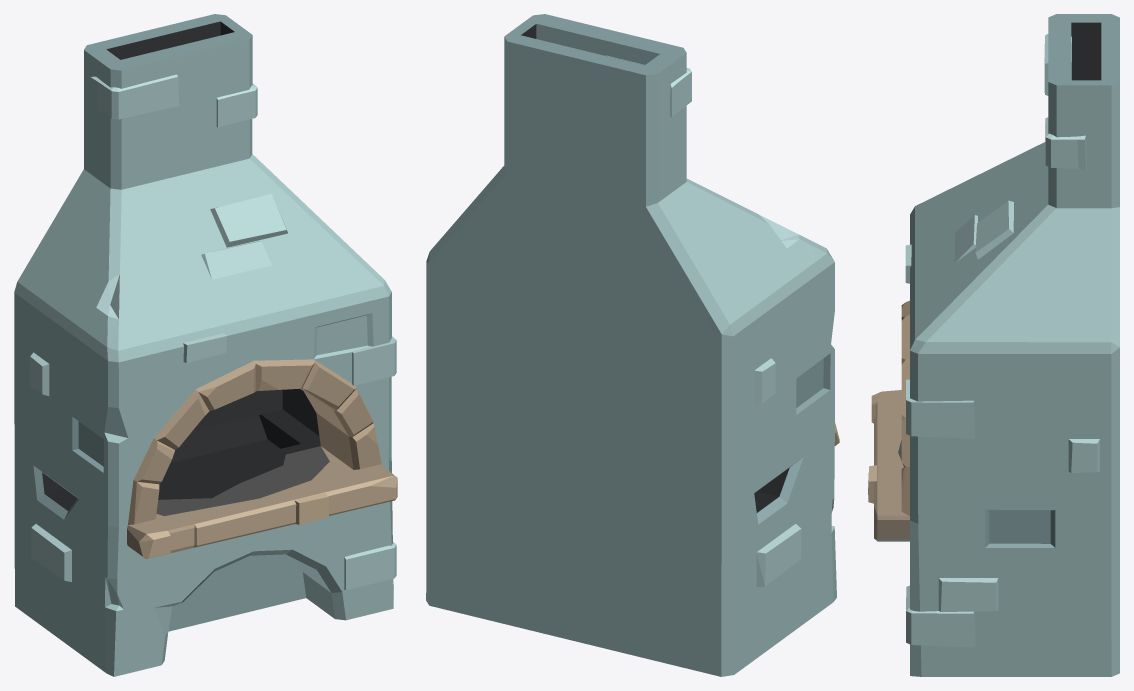
Rendered from SM_Prop_Forge_02.fbx.
3 renders of one model, left to right at view 1: azimuth 30°, elevation 25°; view 2: azimuth 150°, elevation 25°; view 3: azimuth 270°, elevation 25°, orthographic. The views are drawn at different scales.
Parts seen in each view (by area): view 1: SM_Prop_Forge_02; view 2: SM_Prop_Forge_02; view 3: SM_Prop_Forge_02.
Boxes of the visible parts, x1,y1,x2,y2 form: SM_Prop_Forge_02: (14,14,397,676); SM_Prop_Forge_02: (426,14,839,676); SM_Prop_Forge_02: (868,14,1119,676).
Size of the model in its own units: 1.66 by 2.9 by 1.19.
Materials: 1 (1 with a texture image).
